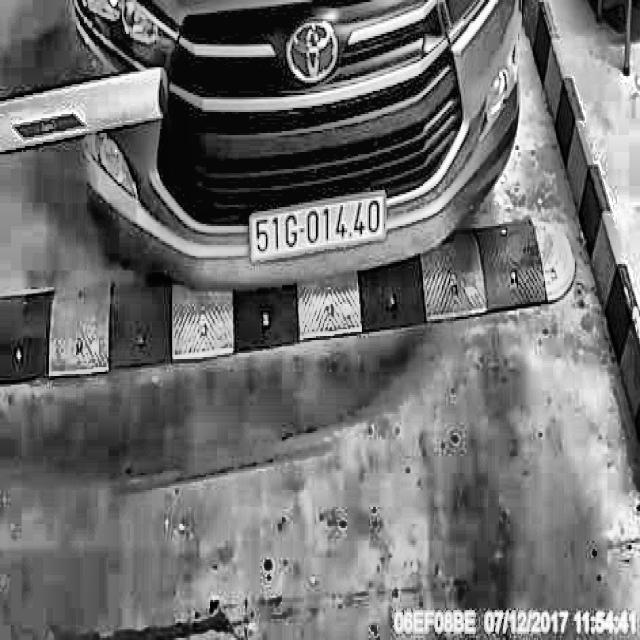plate: (247, 183, 393, 276)
